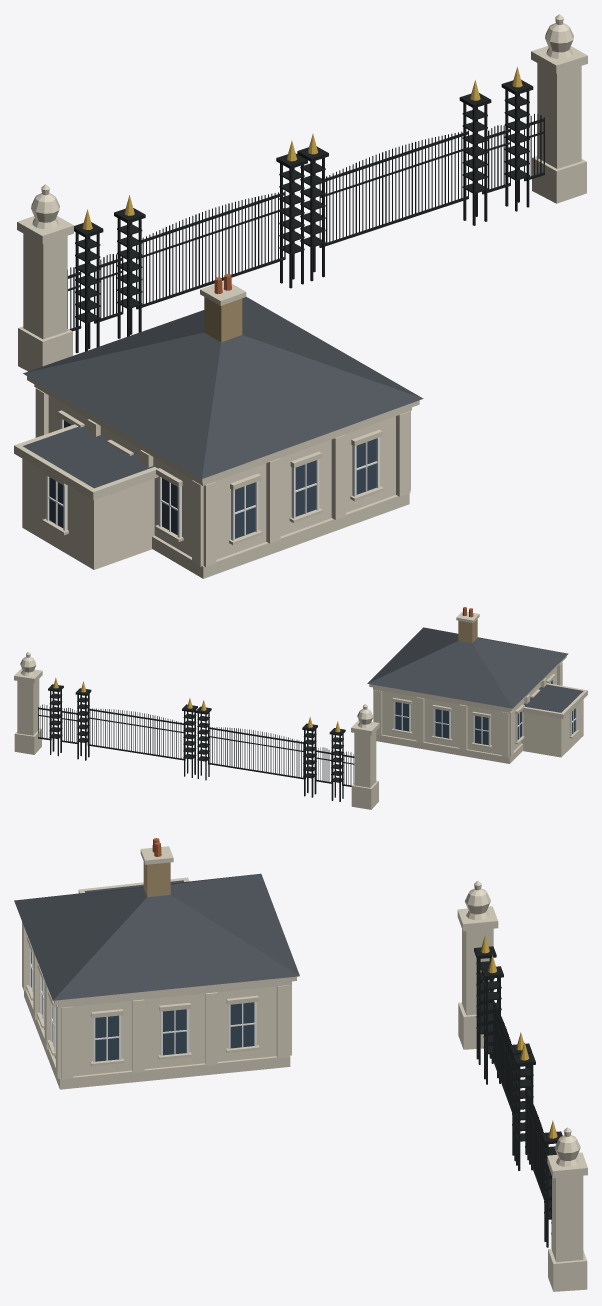
The model's file is victoria_gate_lodge.glb.
The picture shows the model from 3 angles, top to bottom: view 1: azimuth 30°, elevation 25°; view 2: azimuth 150°, elevation 25°; view 3: azimuth 270°, elevation 25°; orthographic projection. The views are drawn at different scales.
Size of the model in its own units: 30.07 by 8.29 by 21.77.
